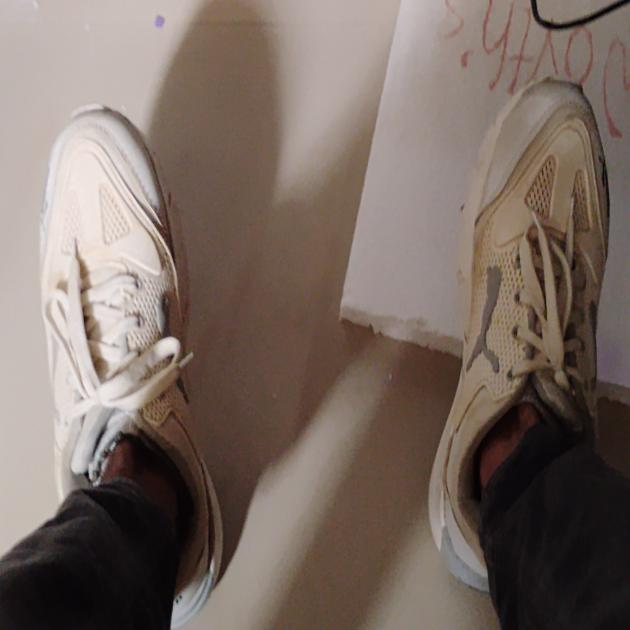shoes: (21, 38, 594, 630)
